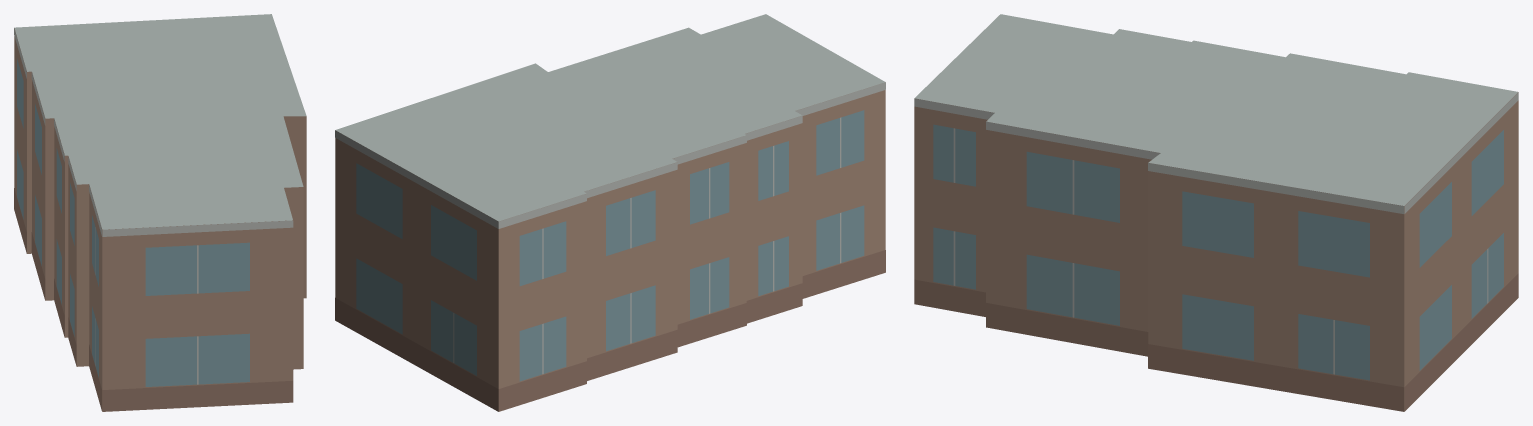
The model's file is survey-upis-32773226.glb.
3 views of the same model, side by side, from view 1: azimuth 30°, elevation 25°; view 2: azimuth 150°, elevation 25°; view 3: azimuth 270°, elevation 25° (orthographic). The views are drawn at different scales.
Visible parts, largest first — view 1: survey-upis-32773226.tmp; view 2: survey-upis-32773226.tmp; view 3: survey-upis-32773226.tmp.
Part boxes in pixels (box(x1,y1,x2,y2)): survey-upis-32773226.tmp: box(14, 14, 306, 411); survey-upis-32773226.tmp: box(335, 14, 885, 411); survey-upis-32773226.tmp: box(914, 14, 1518, 411).
Bounding box in the file's own units: 12.21 × 6.1 × 16.24.
